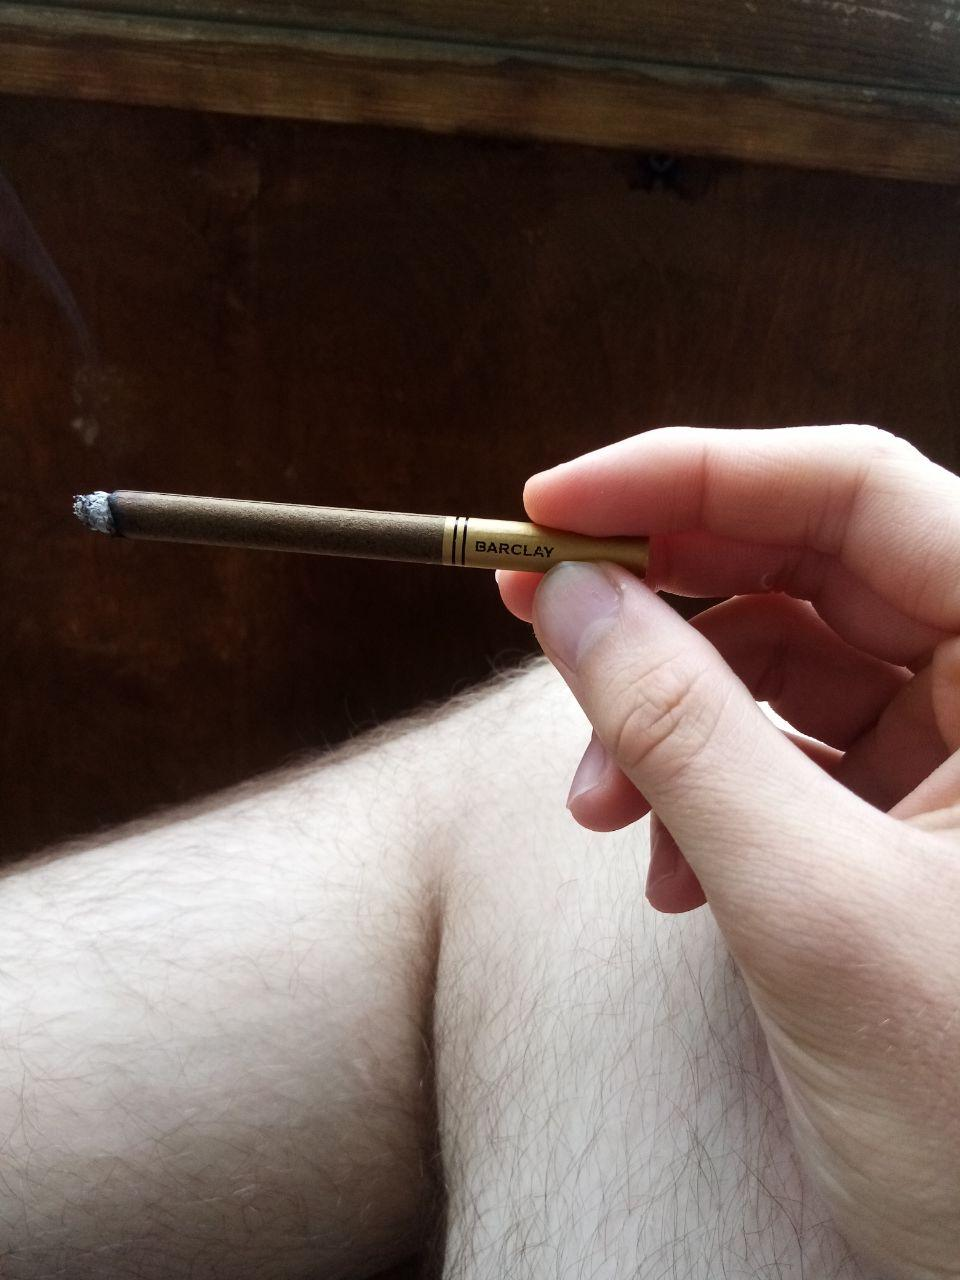cigarette: (73, 490, 647, 573)
